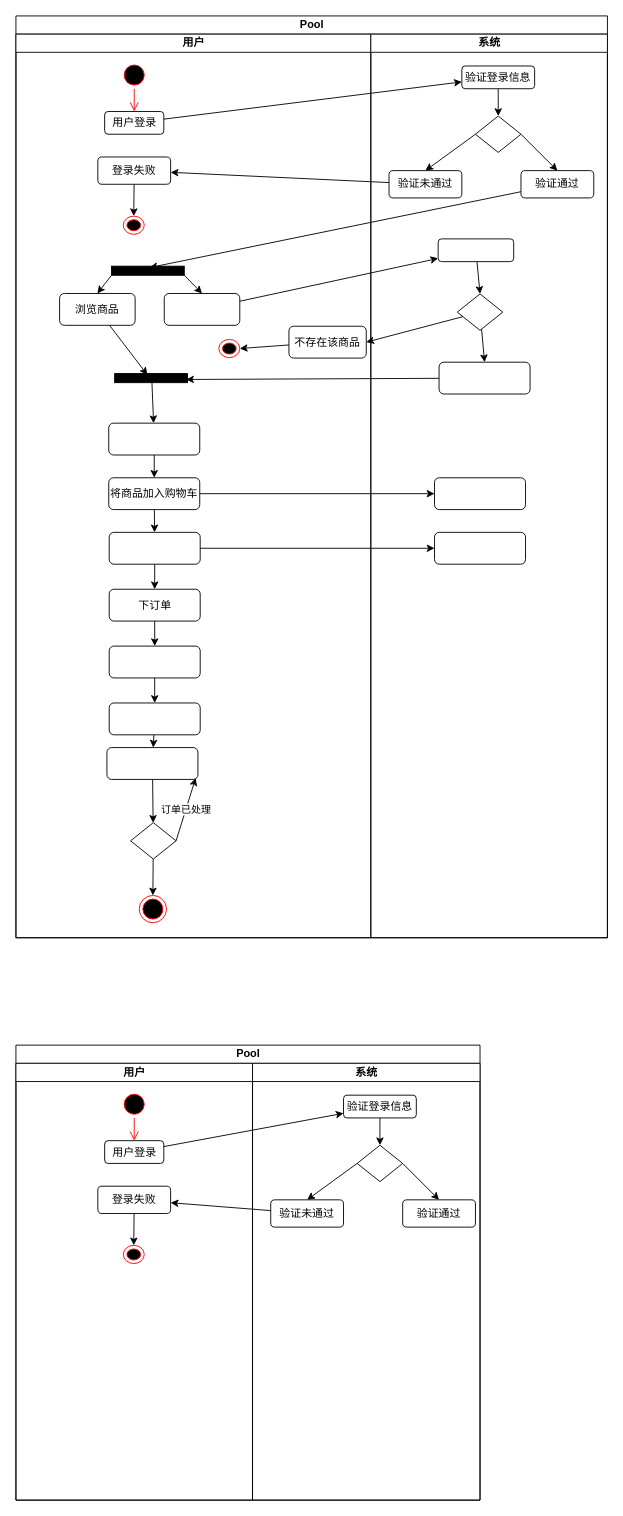
The diagram is 623 pixels wide and 1516 high, and some of its shapes have lost their labels. Here are the shapes that lost their labels. From the top down, the centre of each, then its label:
the point at 475,250: 数据查找
the point at 201,309: 搜索商品
the point at 484,377: 显示商品信息
the point at 154,438: 查看商品信息
the point at 480,493: 记录加入购物车的商品信息
the point at 154,547: 编辑购物车
the point at 480,547: 更新加入购物车的商品信息
the point at 154,661: 支付
the point at 154,718: 生成订单
the point at 152,763: 查询订单状态
